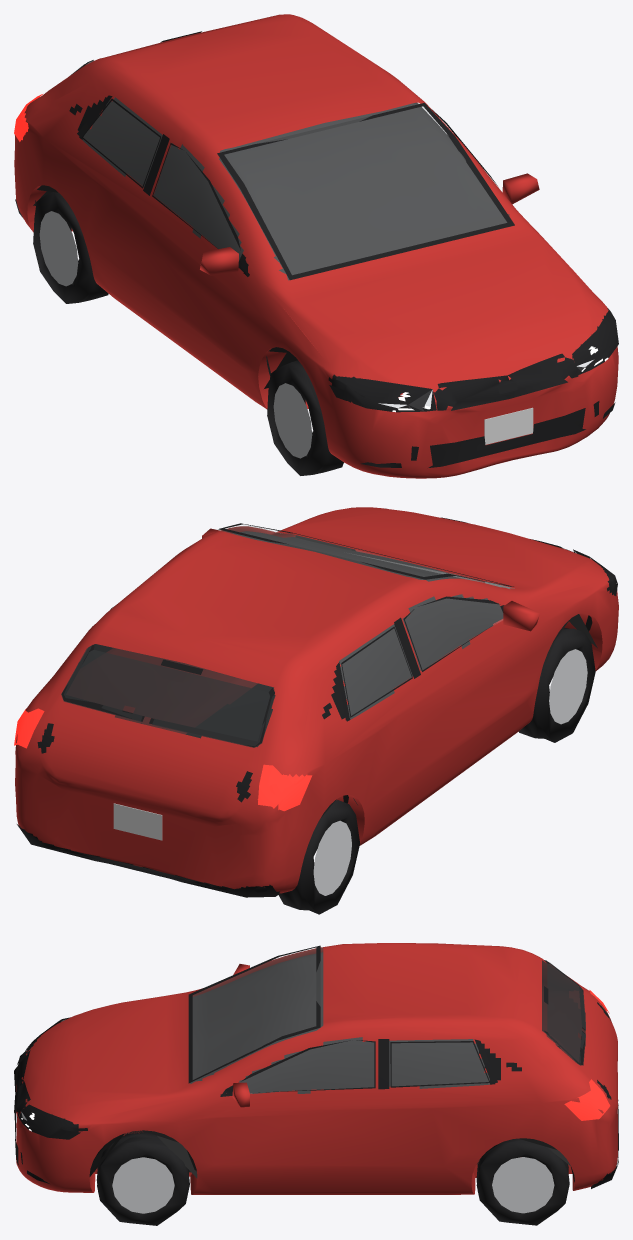
File: compactHatch-lod2.glb
The picture shows the model from 3 angles, top to bottom: view 1: azimuth 30°, elevation 25°; view 2: azimuth 150°, elevation 25°; view 3: azimuth 270°, elevation 25°; orthographic projection. The views are drawn at different scales.
Visible parts, largest first — view 1: Body, Body_Lining, Body_Trim, Wheel_FR_Tyre, Wheel_RR_Tyre, Wheel_FR_Face, Wheel_RR_Face, PlateFront, Mirror_R_Housing, Mirror_L_Housing; view 2: Body, Body_Trim, Body_Lining, Wheel_FR_Tyre, Wheel_RR_Tyre, Wheel_FR_Face, Wheel_RR_Face, PlateRear, Mirror_R_Housing; view 3: Body, Body_Lining, Body_Trim, Wheel_FL_Tyre, Wheel_RL_Tyre, Wheel_FL_Face, Wheel_RL_Face, Arch_F_L_Liner.
Part boxes in pixels (x1,y1,x2,y2): Body: (14, 14, 618, 478); Body_Lining: (82, 97, 507, 280); Body_Trim: (14, 31, 618, 467); Wheel_FR_Tyre: (267, 360, 343, 475); Wheel_RR_Tyre: (33, 192, 108, 303); Wheel_FR_Face: (273, 383, 312, 458); Wheel_RR_Face: (39, 211, 78, 286); PlateFront: (484, 407, 533, 444); Mirror_R_Housing: (200, 247, 238, 275); Mirror_L_Housing: (502, 173, 539, 204); Body: (15, 507, 618, 893); Body_Trim: (14, 517, 617, 897); Body_Lining: (94, 531, 503, 719); Wheel_FR_Tyre: (518, 627, 595, 742); Wheel_RR_Tyre: (278, 800, 359, 914); Wheel_FR_Face: (549, 649, 587, 724); Wheel_RR_Face: (313, 820, 351, 895); PlateRear: (113, 803, 162, 840); Mirror_R_Housing: (503, 601, 539, 631); Body: (16, 943, 618, 1194); Body_Lining: (190, 952, 489, 1093); Body_Trim: (14, 945, 618, 1188); Wheel_FL_Tyre: (96, 1132, 189, 1225); Wheel_RL_Tyre: (476, 1138, 569, 1225); Wheel_FL_Face: (112, 1157, 174, 1213); Wheel_RL_Face: (492, 1157, 554, 1213); Arch_F_L_Liner: (89, 1130, 197, 1178).
Bounding box in the file's own units: 2.13 × 1.44 × 4.08.
